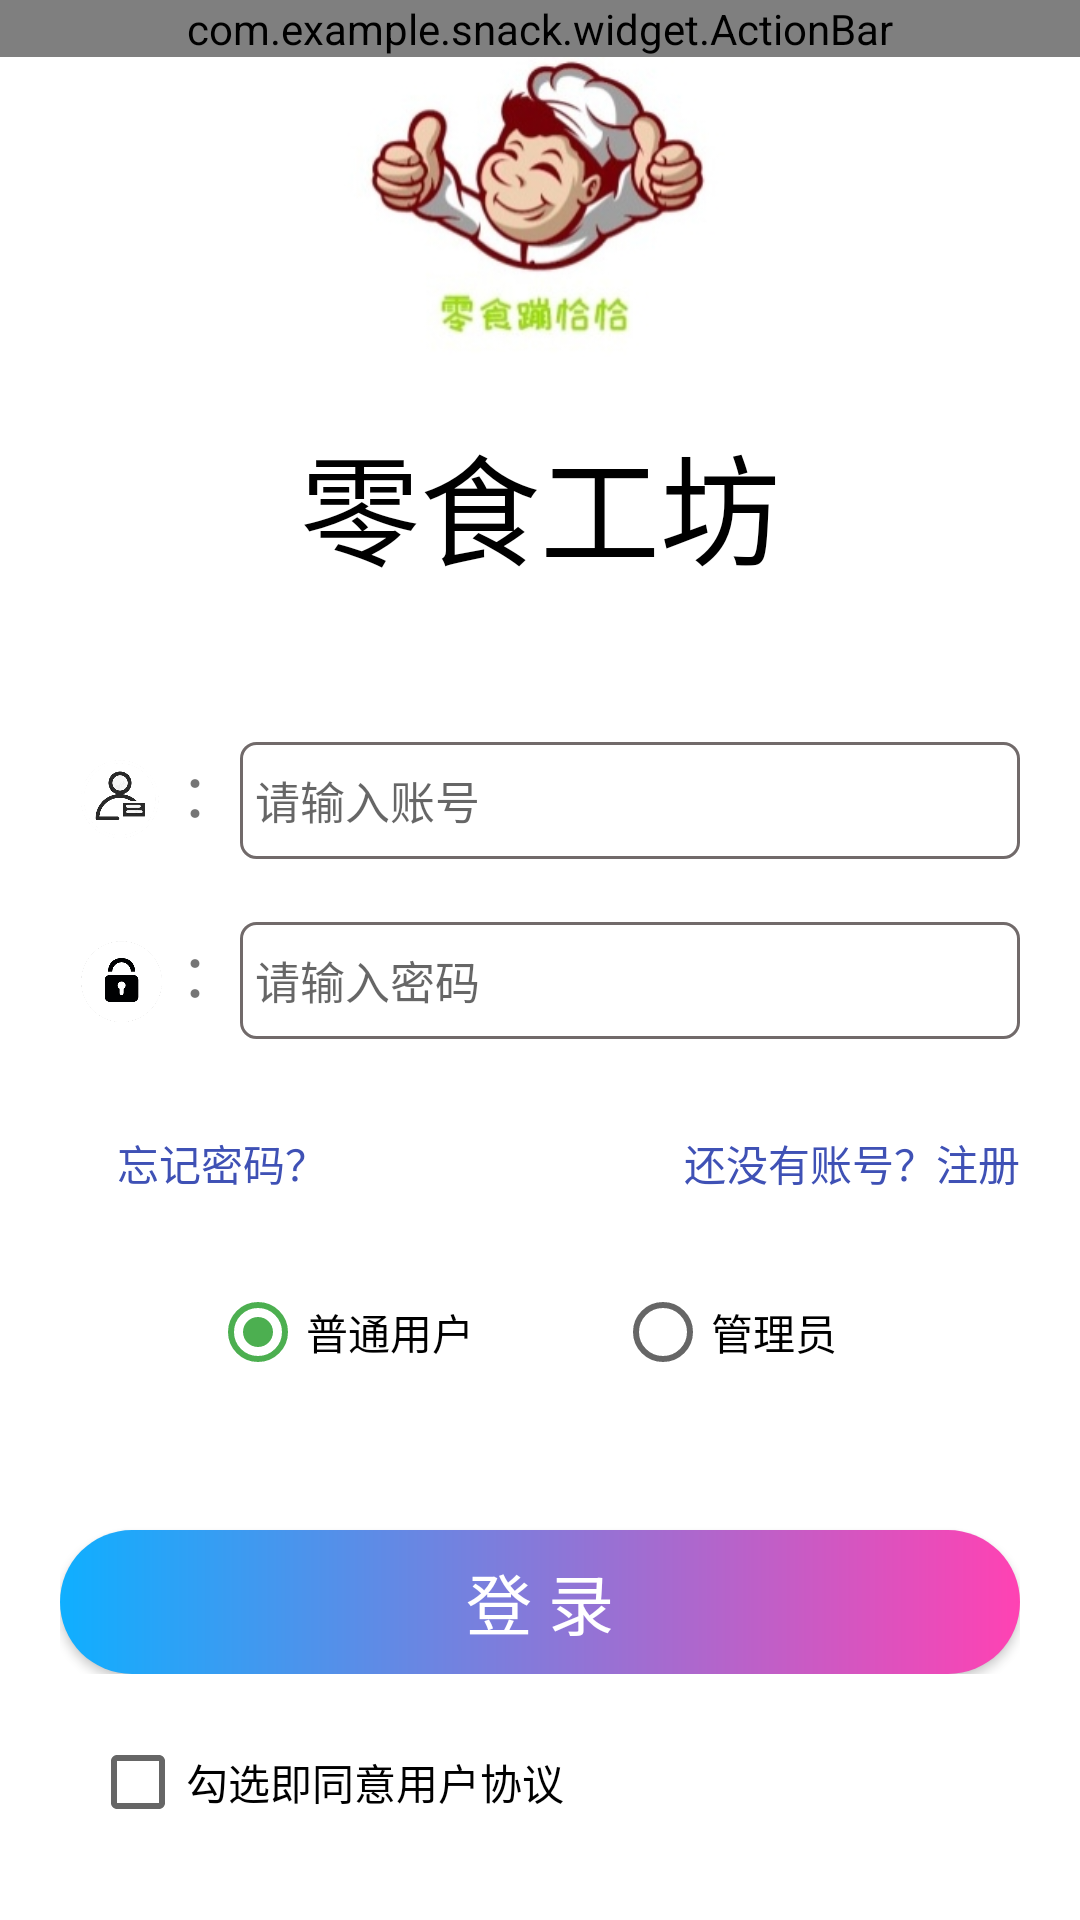

Named icons in this screenshot (1080x1920) and their centers, (x,y):
mima: (122,980)
